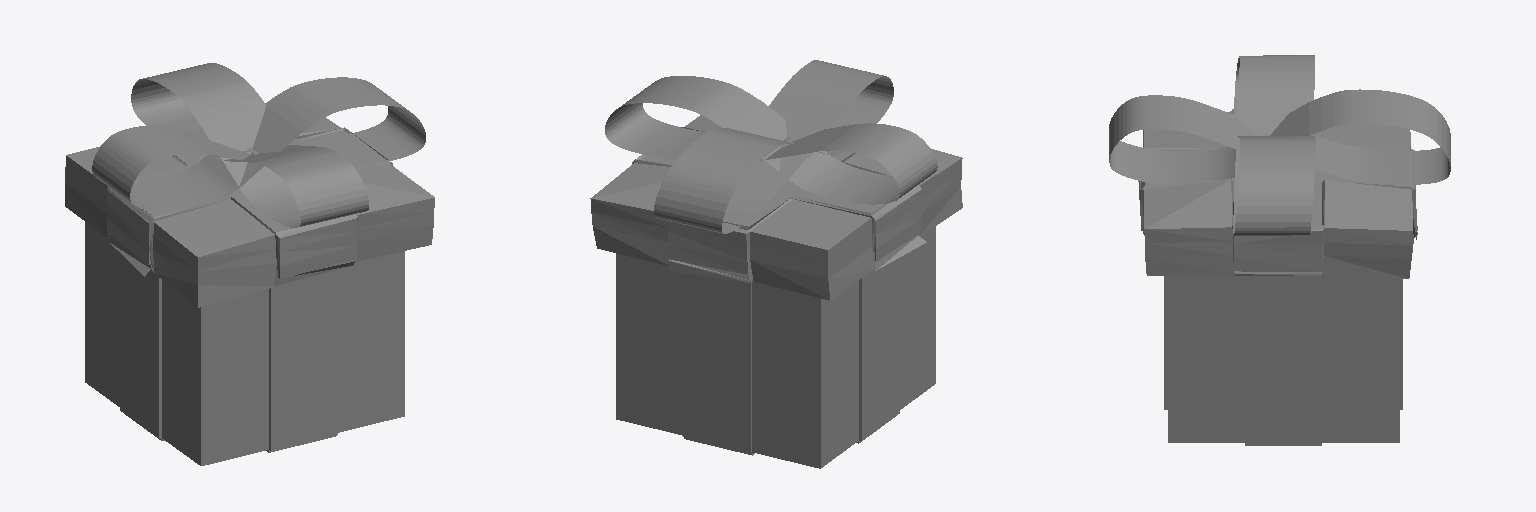
The picture shows the model from 3 angles: view 1: azimuth 30°, elevation 25°; view 2: azimuth 150°, elevation 25°; view 3: azimuth 270°, elevation 25°; orthographic projection.
Parts seen in each view (by area): view 1: Cube, Cube_1, Cube_1_Extrude_NURBS, Cube_1_Extrude_NURBS_1; view 2: Cube, Cube_1, Cube_1_Extrude_NURBS, Cube_1_Extrude_NURBS_1; view 3: Cube, Cube_1, Cube_1_Extrude_NURBS_1, Cube_1_Extrude_NURBS.
Part boxes in pixels (x1,y1,x2,y2): Cube: (85, 222, 404, 465); Cube_1: (65, 117, 434, 307); Cube_1_Extrude_NURBS: (92, 77, 425, 210); Cube_1_Extrude_NURBS_1: (131, 63, 368, 227); Cube: (616, 226, 935, 468); Cube_1: (590, 115, 962, 300); Cube_1_Extrude_NURBS: (605, 76, 937, 204); Cube_1_Extrude_NURBS_1: (653, 60, 893, 233); Cube: (1164, 276, 1402, 445); Cube_1: (1138, 109, 1417, 278); Cube_1_Extrude_NURBS_1: (1109, 89, 1450, 184); Cube_1_Extrude_NURBS: (1233, 55, 1315, 235).
Size of the model in its own units: 456 by 428 by 456.